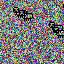sheep: (48, 21, 64, 33)
